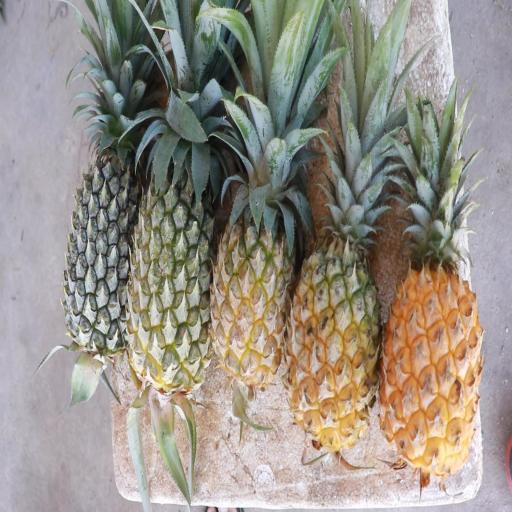------------------------------: (132, 104, 214, 386)
Pineapple - v8 v1: (383, 226, 482, 468), (290, 197, 384, 444), (214, 149, 296, 384)
